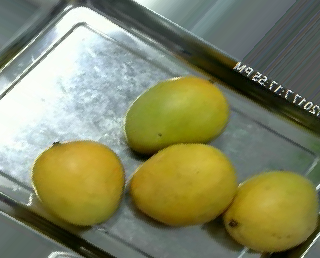Mango: (124, 140, 239, 223), (121, 75, 231, 154), (30, 138, 125, 229), (224, 167, 319, 253)
